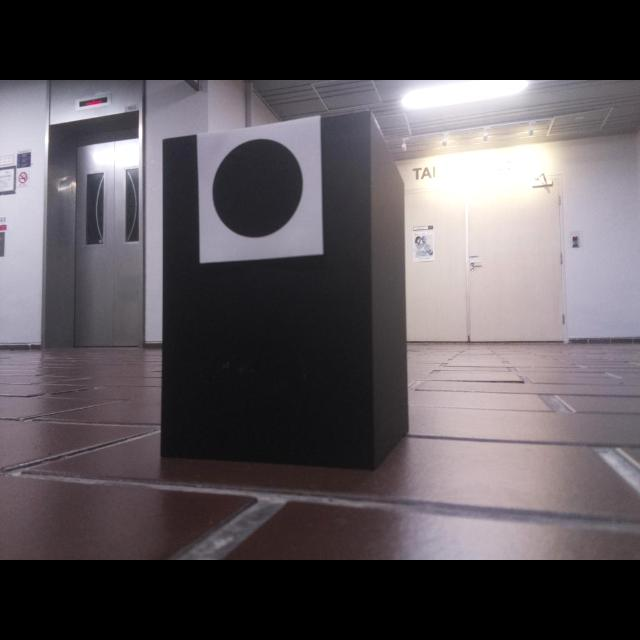CIRCLE: (211, 136, 305, 242)
